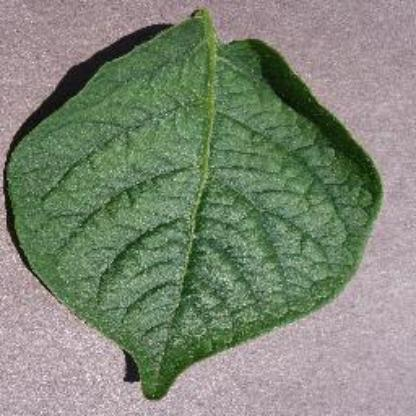Healthy-plant: (4, 13, 392, 397)
